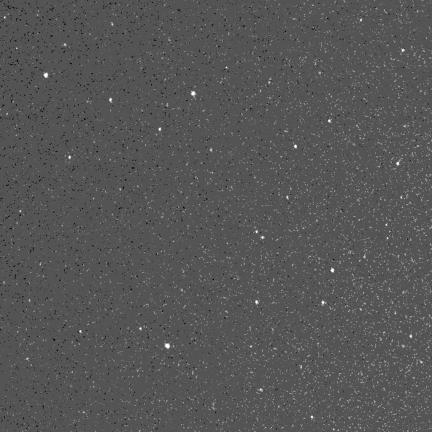blob: (311, 20, 362, 419), (165, 343, 170, 348), (191, 91, 196, 96), (44, 73, 48, 78), (331, 268, 335, 273), (255, 300, 259, 305), (294, 145, 298, 149), (139, 327, 143, 331), (159, 127, 162, 132), (402, 49, 405, 53), (64, 43, 67, 47), (256, 230, 259, 234), (328, 119, 331, 123), (111, 23, 114, 27), (410, 335, 413, 339), (79, 330, 82, 334), (109, 98, 112, 102), (210, 148, 213, 152), (69, 156, 72, 160), (322, 301, 325, 305), (360, 19, 363, 22), (260, 389, 263, 392), (261, 236, 264, 239), (287, 196, 289, 200), (397, 162, 399, 165)
